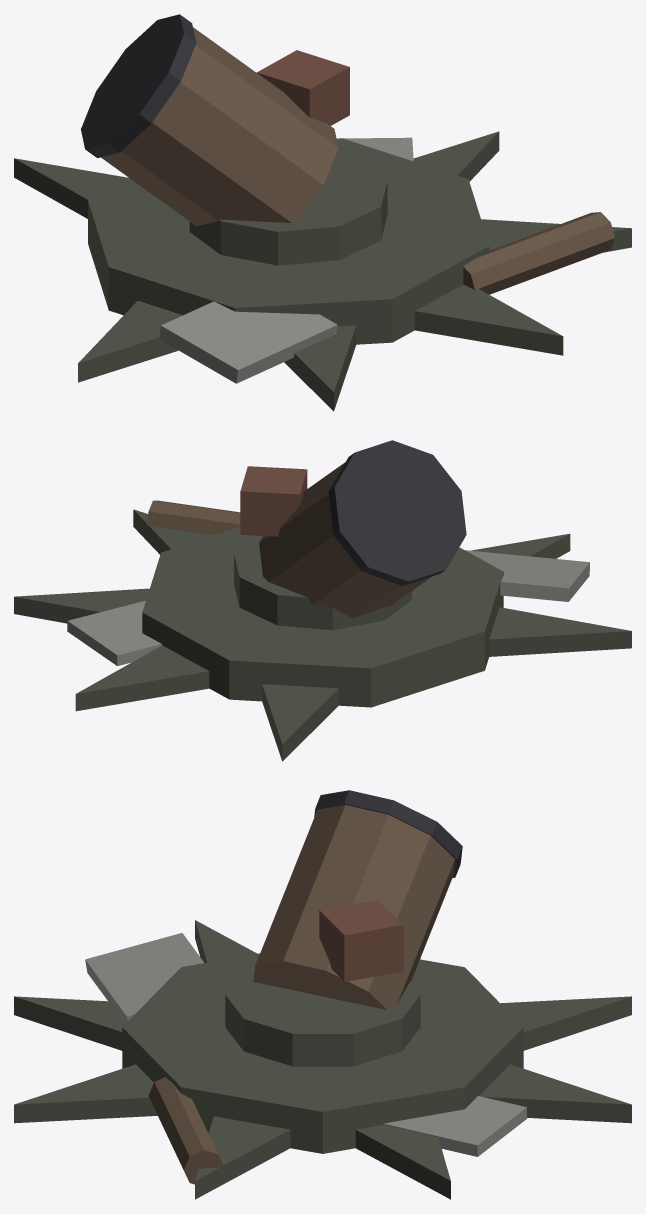
File: ancient_mortar_2.obj
3 views of the same model, one above another, from view 1: azimuth 30°, elevation 25°; view 2: azimuth 150°, elevation 25°; view 3: azimuth 270°, elevation 25° (orthographic). The views are drawn at different scales.
Visible parts, largest first — view 1: ancient_mortar_2; view 2: ancient_mortar_2; view 3: ancient_mortar_2.
Part boxes in pixels (x1,y1,x2,y2): ancient_mortar_2: [14, 14, 631, 411]; ancient_mortar_2: [14, 440, 631, 761]; ancient_mortar_2: [14, 790, 631, 1199].
Size of the model in its own units: 2.4 by 1.01 by 2.4.
